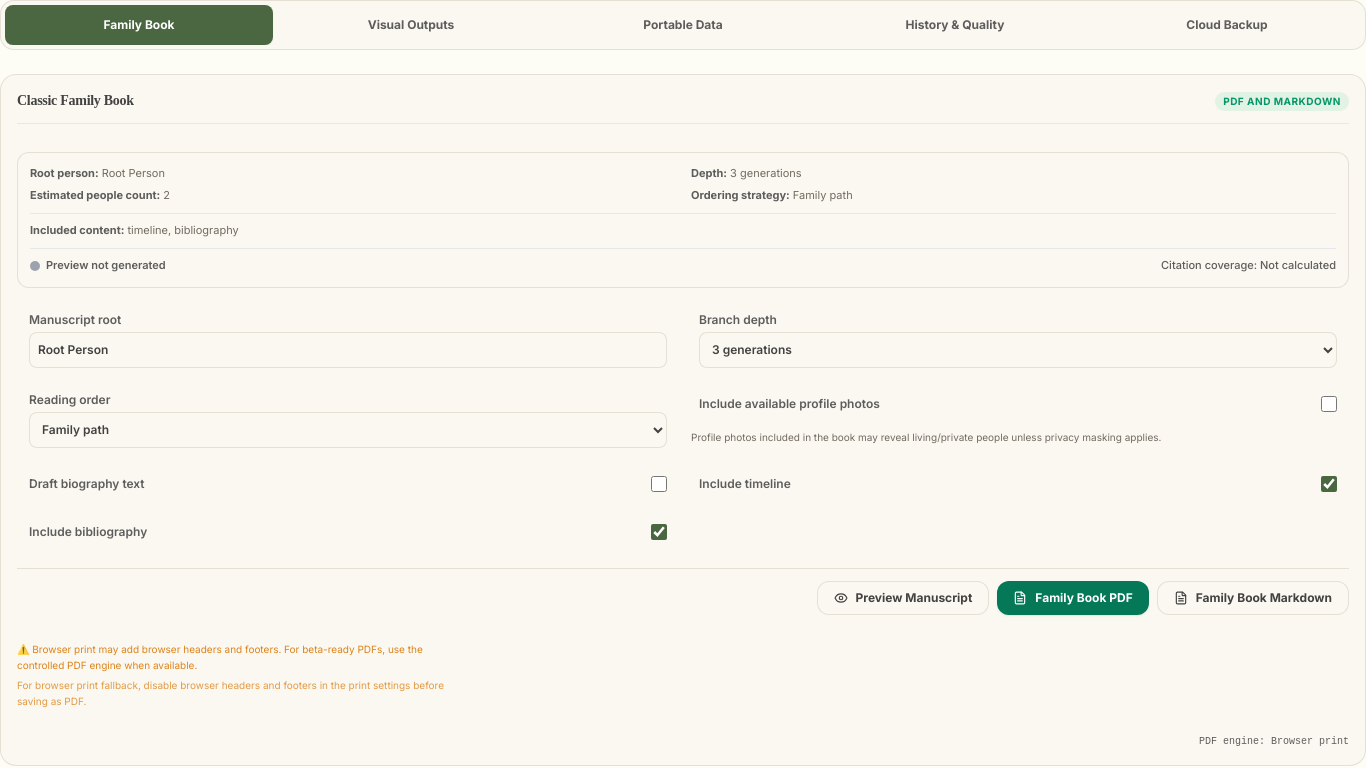
Test: ExportCloudPanel manuscript preview › displays the visual review area and separates current export actions
The image size is (1366, 768).
Click the tab "Visual Outputs": x=411, y=25 277,5 -> 545,45
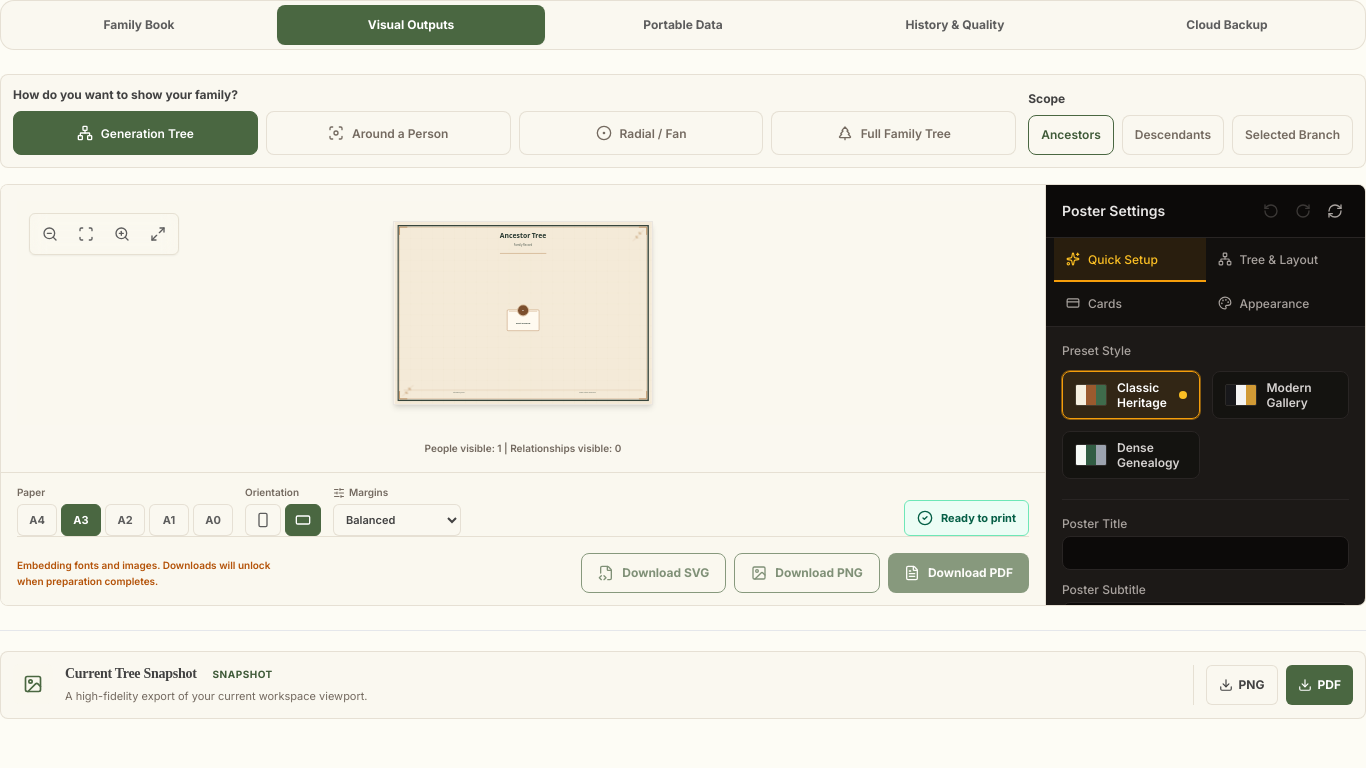
Check: the element with test id "visual-publishing-studio" is shown
Check: the element "How do you want to show your family?" is shown, box 13,87 -> 1016,155
Check: the element with test id "tree-snapshot-export-card" is shown, box 0,651 -> 1365,719
